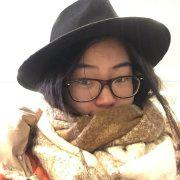WRONG: (67, 60, 138, 131)
